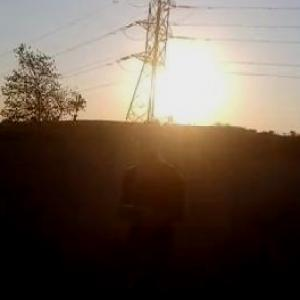follow: (112, 119, 190, 299)
